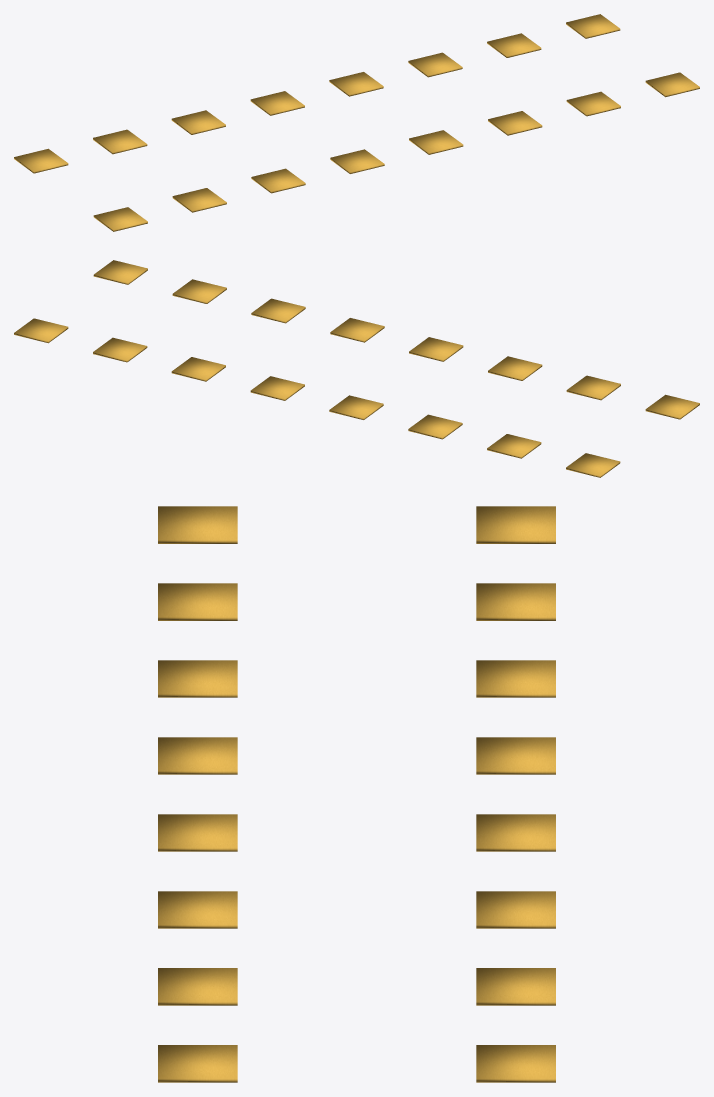
The model's file is 116_L105_PowerContactPads.obj.
3 views of the same model, one above another, from view 1: azimuth 30°, elevation 25°; view 2: azimuth 150°, elevation 25°; view 3: azimuth 270°, elevation 25° (orthographic). The views are drawn at different scales.
Visible parts, largest first — view 1: PowerContactPads_gold_0; view 2: PowerContactPads_gold_0; view 3: PowerContactPads_gold_0.
Boxes of the visible parts, <box> form: PowerContactPads_gold_0: <box>14,14,699,231</box>; PowerContactPads_gold_0: <box>14,260,699,477</box>; PowerContactPads_gold_0: <box>158,506,555,1082</box>.
Bounding box in the file's own units: 0.0255 × 8e-05 × 0.0075.
Materials: 1 (1 with a texture image).
